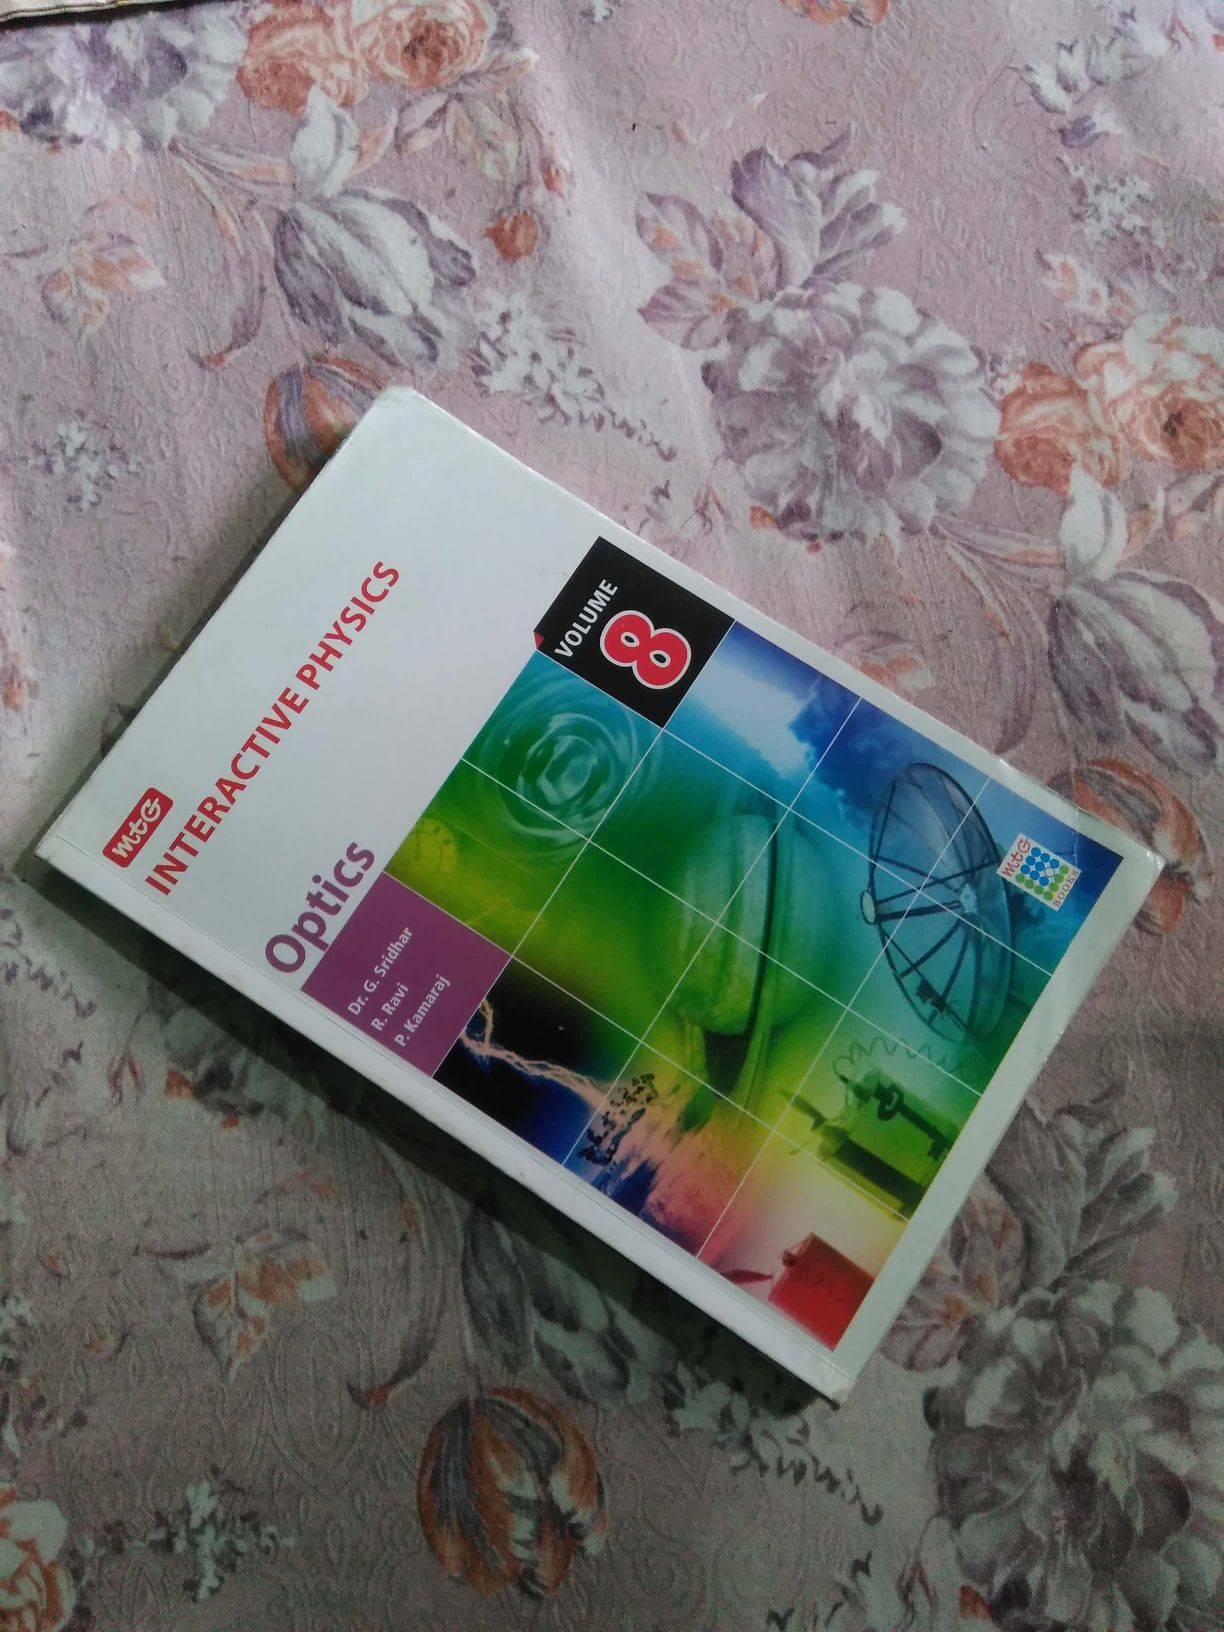optics: (59, 361, 1153, 1414)
